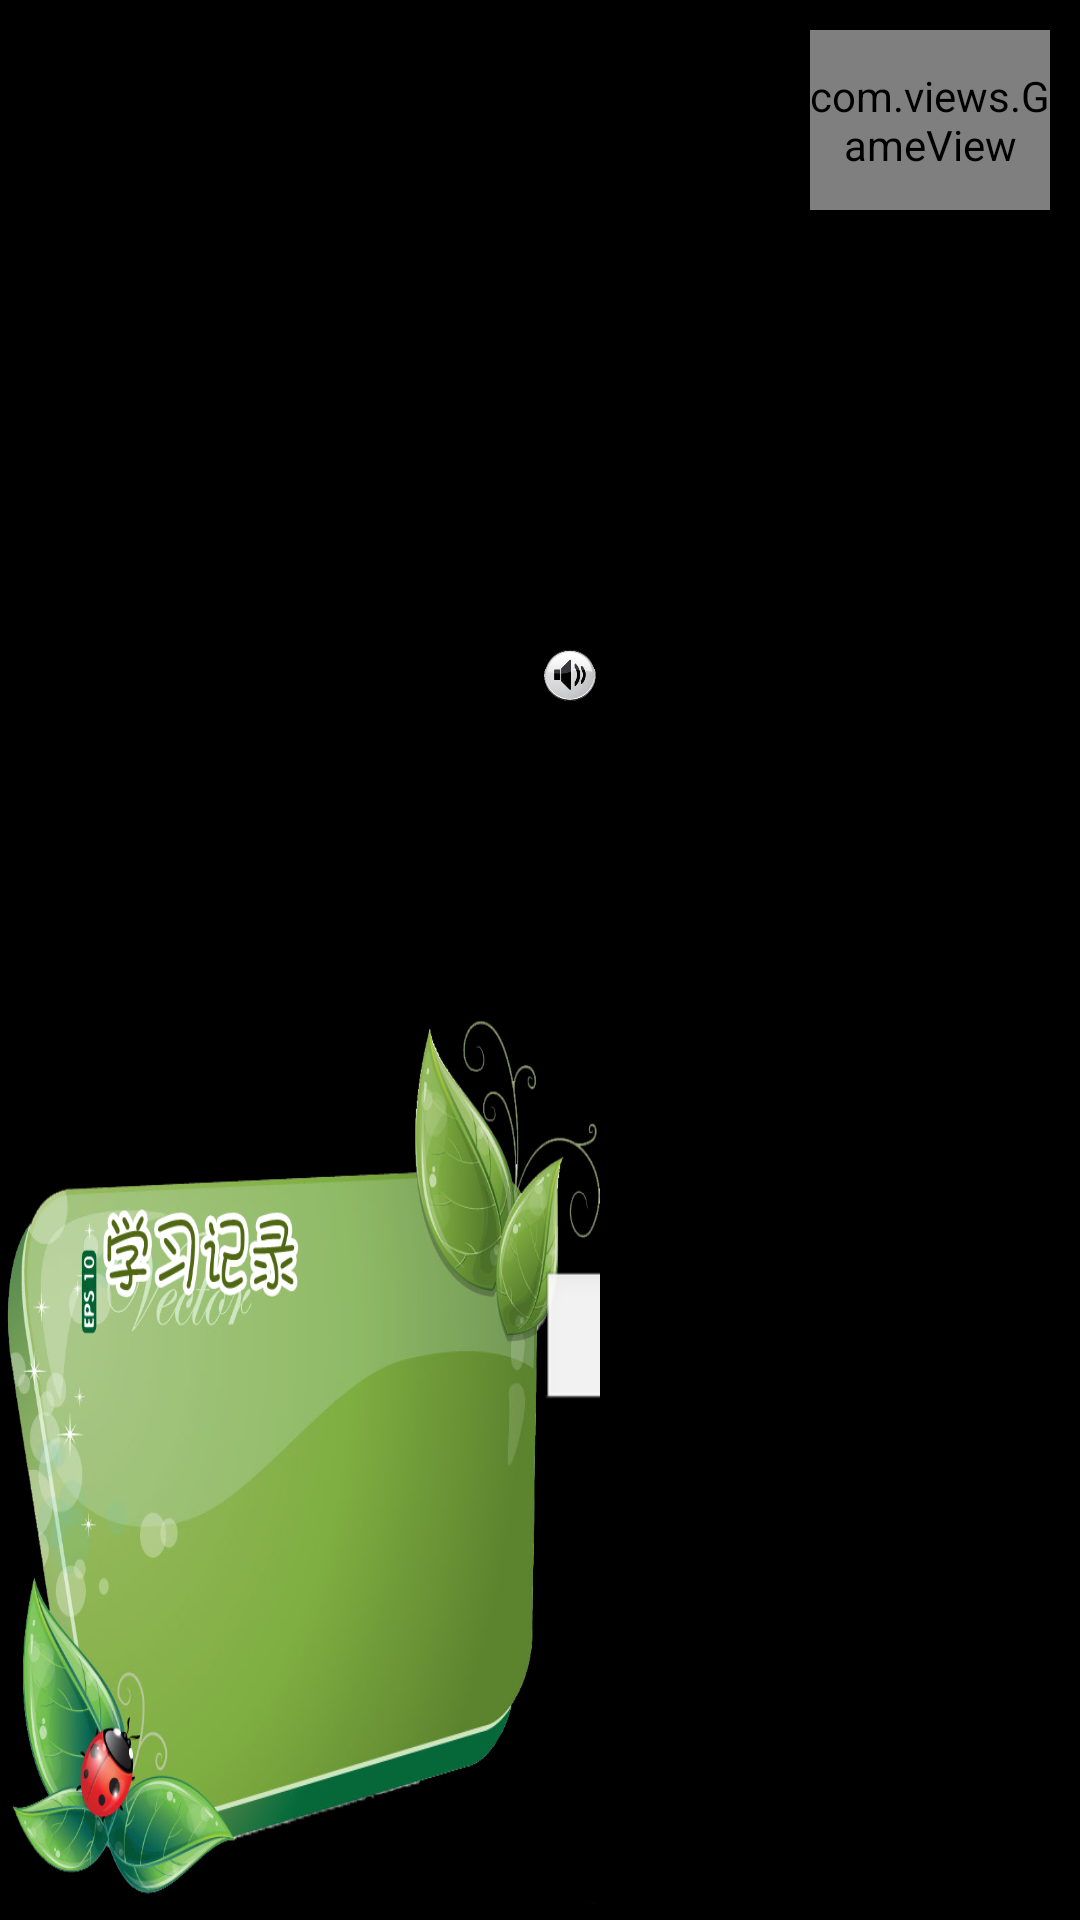

Icons on this 1080 x 1920 Android screen, each with the point to tap as (x,y):
horn: (570,675)
